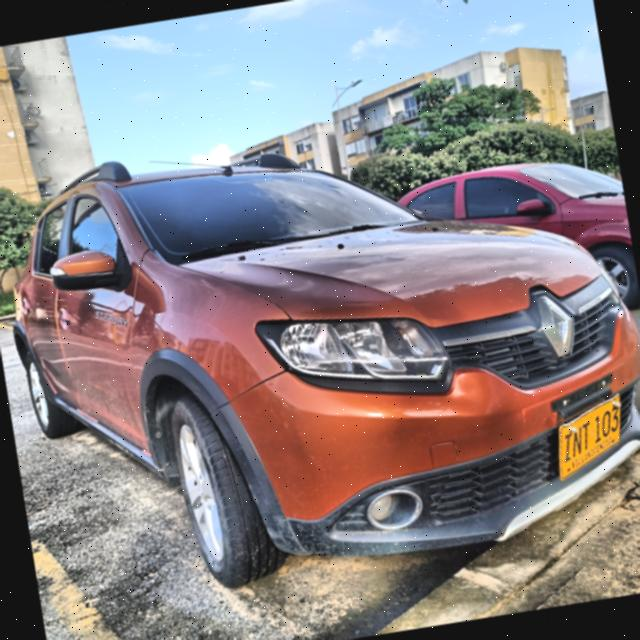plate: (561, 396, 620, 479)
